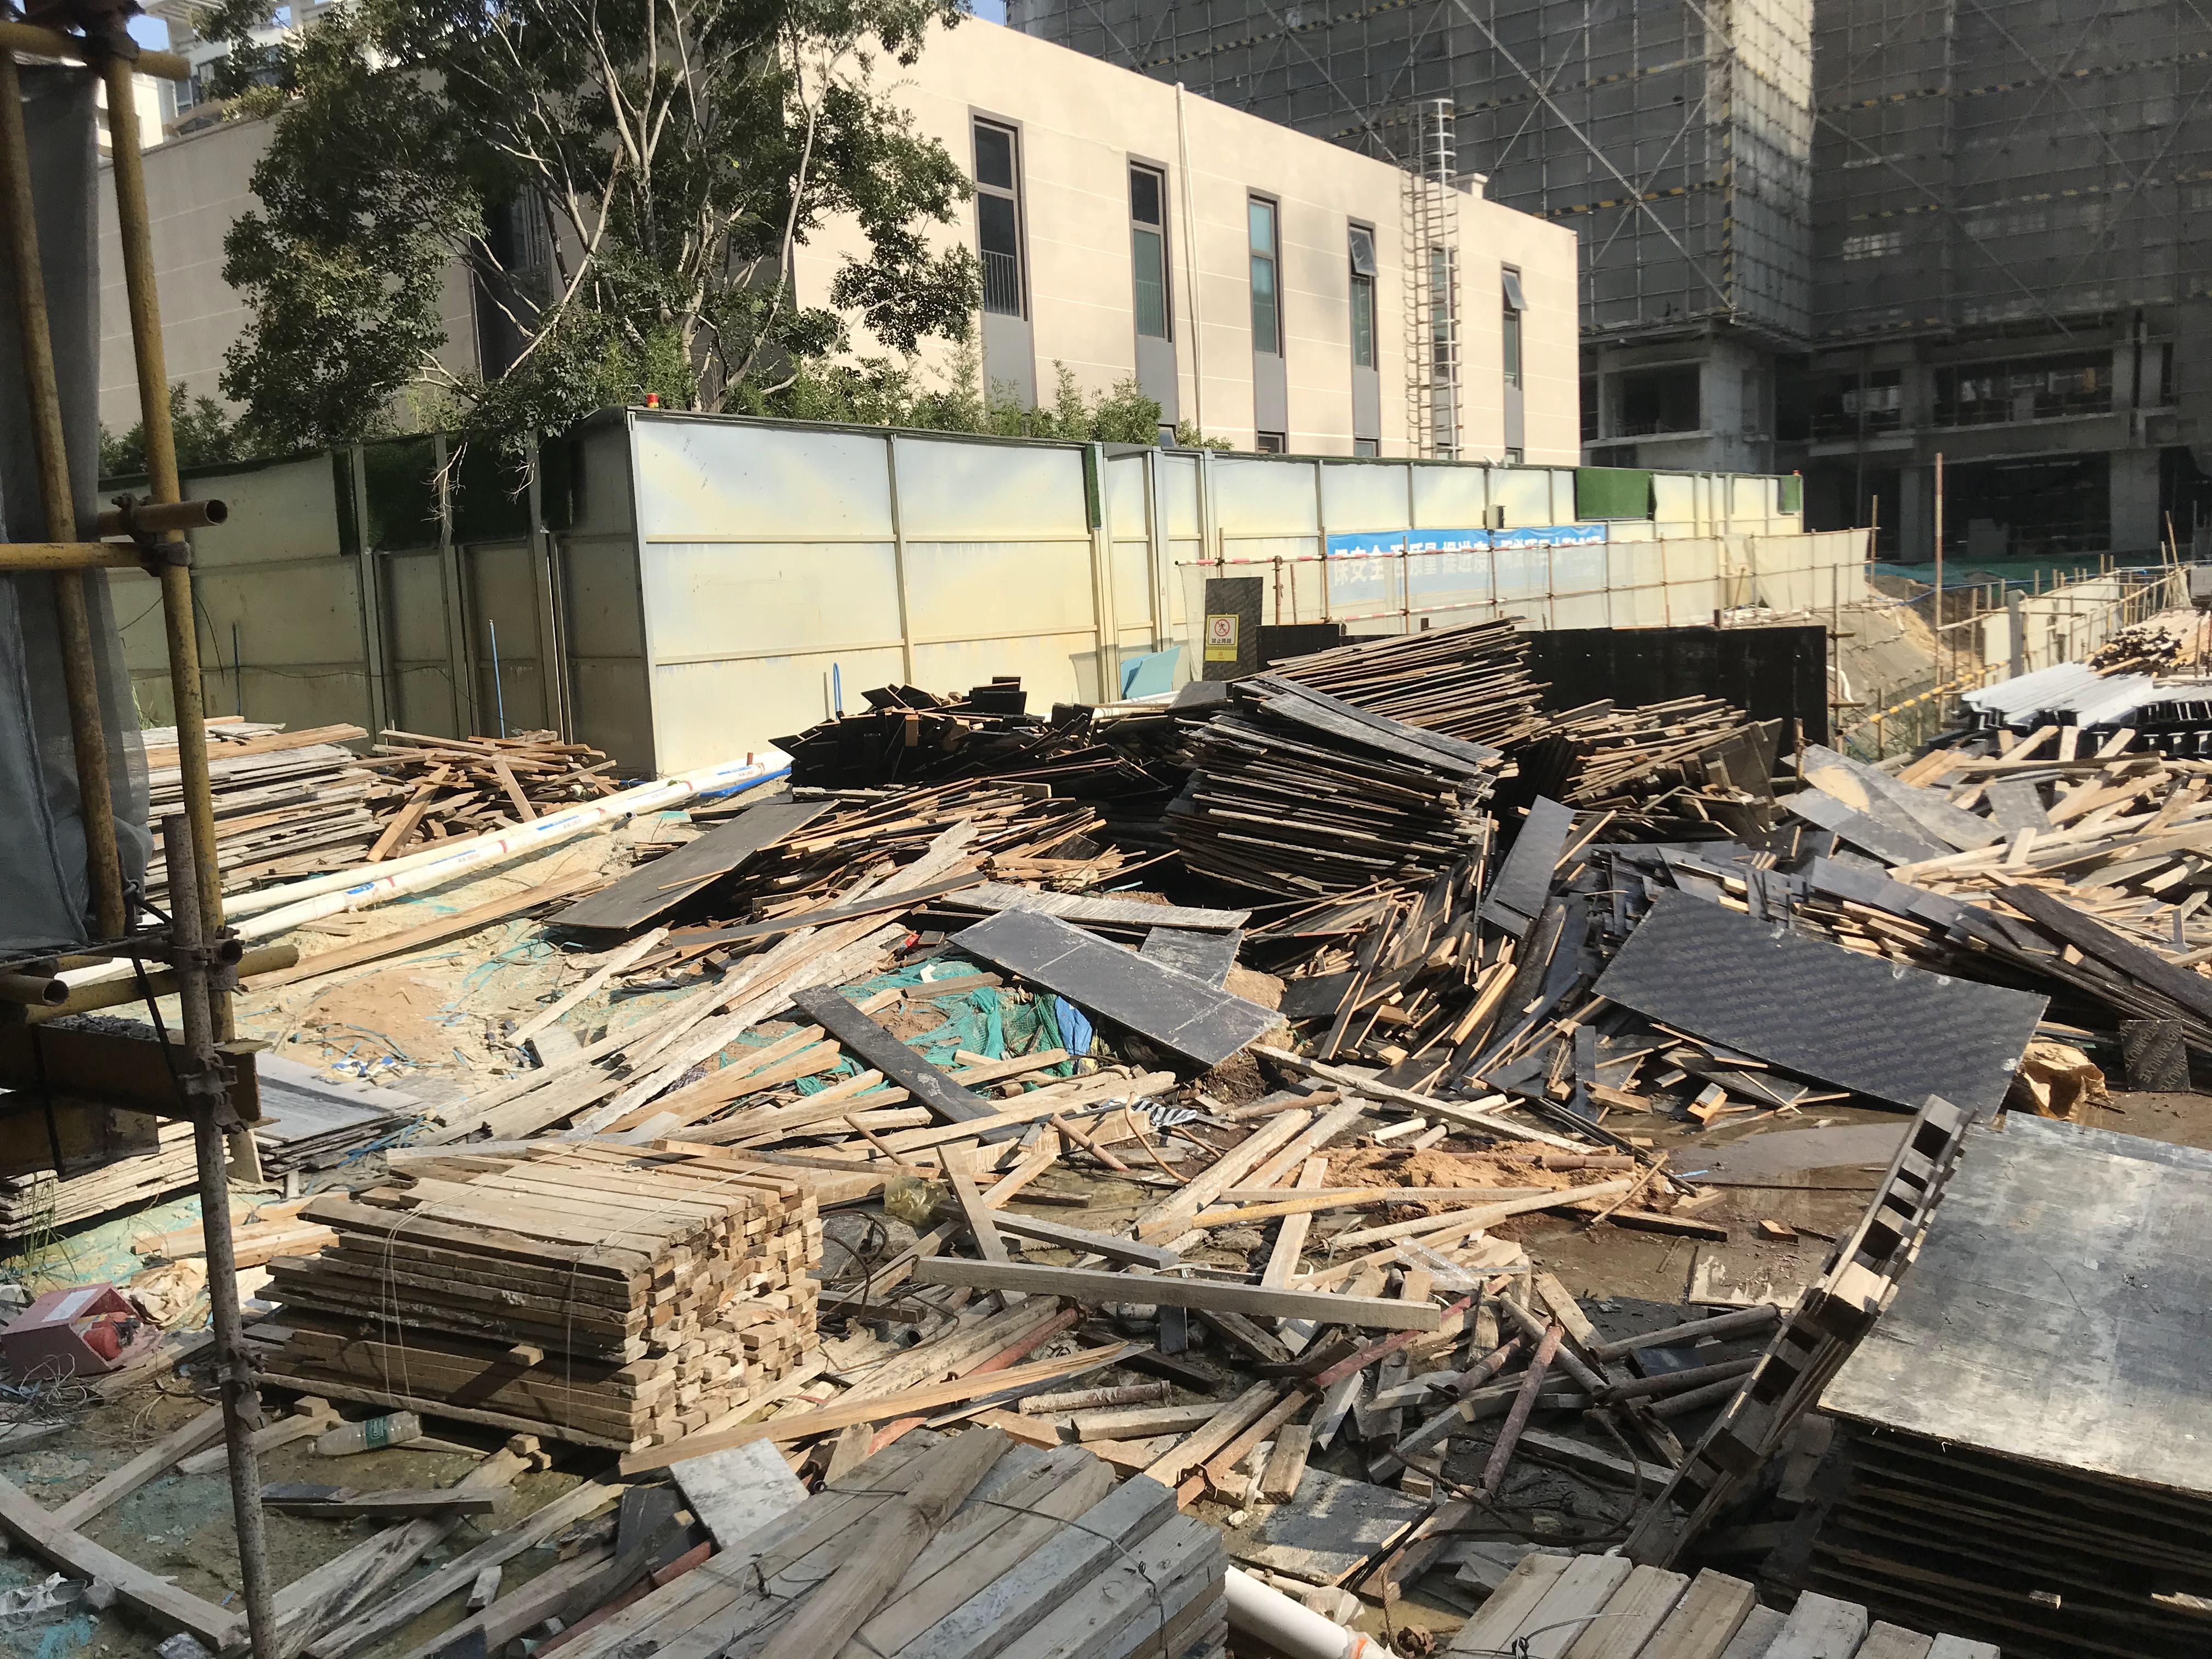board: (1829, 1110, 2212, 1636), (1181, 678, 1496, 890), (148, 716, 369, 894), (1284, 610, 1543, 751)
scaffold: (2099, 608, 2212, 673)
slogan: (1329, 525, 1606, 601)
wood: (272, 1140, 827, 1460), (547, 1417, 1226, 1659), (1449, 1539, 2000, 1659)
